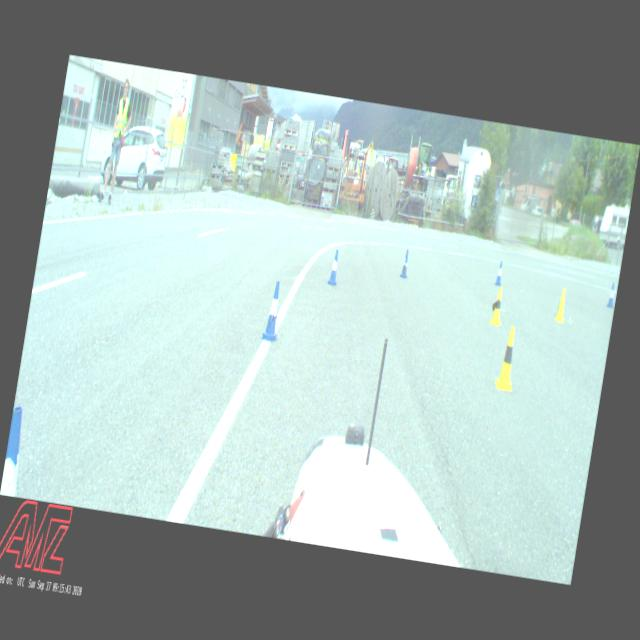blue_cone: (0, 405, 30, 497), (261, 280, 287, 342), (328, 248, 342, 286), (606, 283, 618, 308), (400, 250, 410, 279), (494, 261, 504, 286)
yellow_cone: (494, 326, 522, 392), (490, 288, 506, 326), (554, 288, 569, 322)
